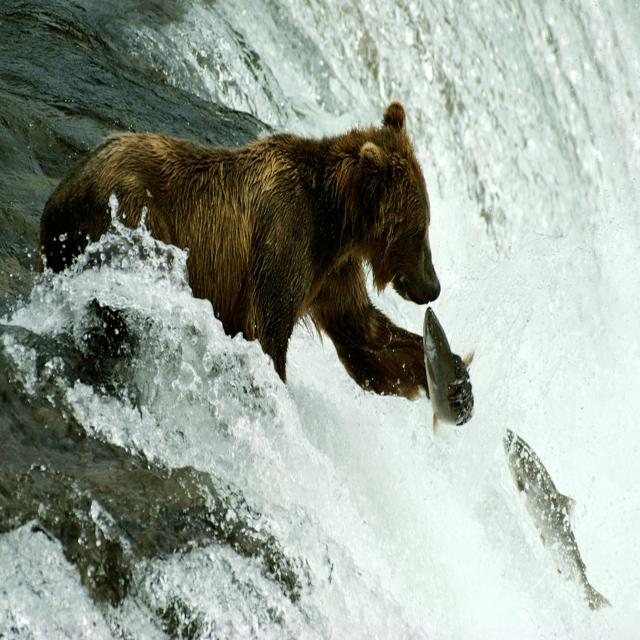Bear: (36, 102, 474, 426)
